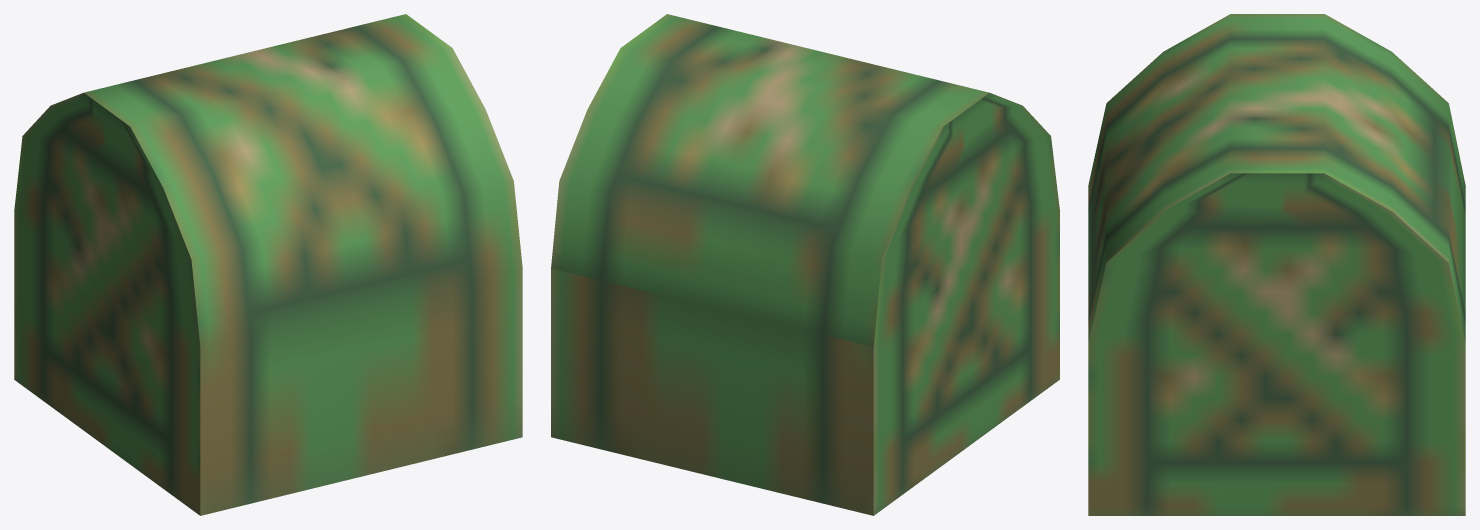
Rendered from chest-10-faced-half-loop-16x16x16.obj.
3 views of the same model, side by side, from view 1: azimuth 30°, elevation 25°; view 2: azimuth 150°, elevation 25°; view 3: azimuth 270°, elevation 25° (orthographic).
Visible parts, largest first — view 1: Default; view 2: Default; view 3: Default.
Part boxes in pixels (box(x1,y1,x2,y2)): Default: box(14, 14, 522, 515); Default: box(551, 14, 1059, 515); Default: box(1088, 14, 1465, 515).
Size of the model in its own units: 1 by 1 by 1.
